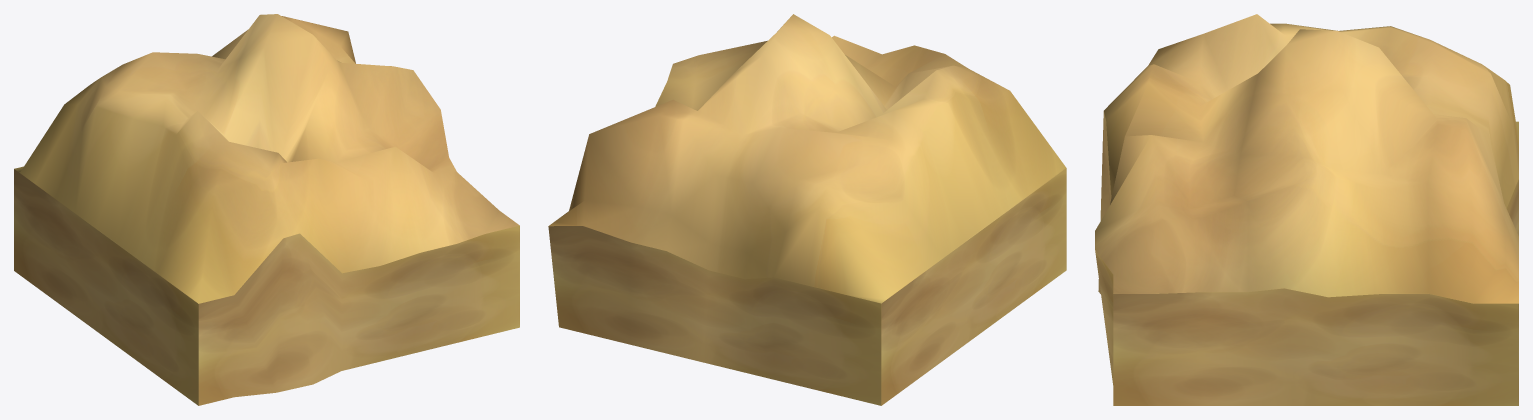
File: popcorn.fbx
3 renders of one model, left to right at view 1: azimuth 30°, elevation 25°; view 2: azimuth 150°, elevation 25°; view 3: azimuth 270°, elevation 25°, orthographic. The views are drawn at different scales.
Parts seen in each view (by area): view 1: popcorn; view 2: popcorn; view 3: popcorn.
Boxes of the visible parts, box(x1,y1,x2,y2) form: popcorn: box(14, 14, 519, 405); popcorn: box(548, 14, 1066, 405); popcorn: box(1095, 14, 1518, 405).
Bounding box in the file's own units: 74.25 × 58.46 × 74.72.
